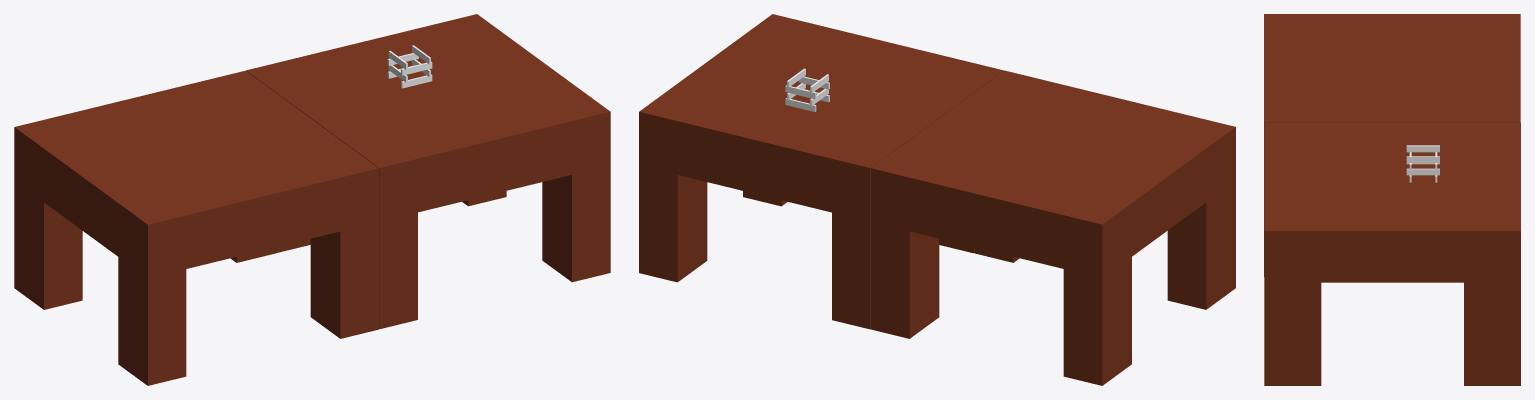
Rendered from keva_tower.dae.
3 renders of one model, left to right at view 1: azimuth 30°, elevation 25°; view 2: azimuth 150°, elevation 25°; view 3: azimuth 270°, elevation 25°, orthographic. The views are drawn at different scales.
Parts seen in each view (by area): view 1: base (×7); view 2: base (×7); view 3: base (×5), SketchUp (×2).
Part boxes in pixels (x1=…): base (×7): x1=14, y1=14, x2=610, y2=385; base (×7): x1=639, y1=14, x2=1235, y2=385; base (×5): x1=1264, y1=14, x2=1520, y2=385; SketchUp (×2): x1=1406, y1=145, x2=1439, y2=162.
Size of the model in its own units: 1.8 by 0.9009 by 0.6946.
